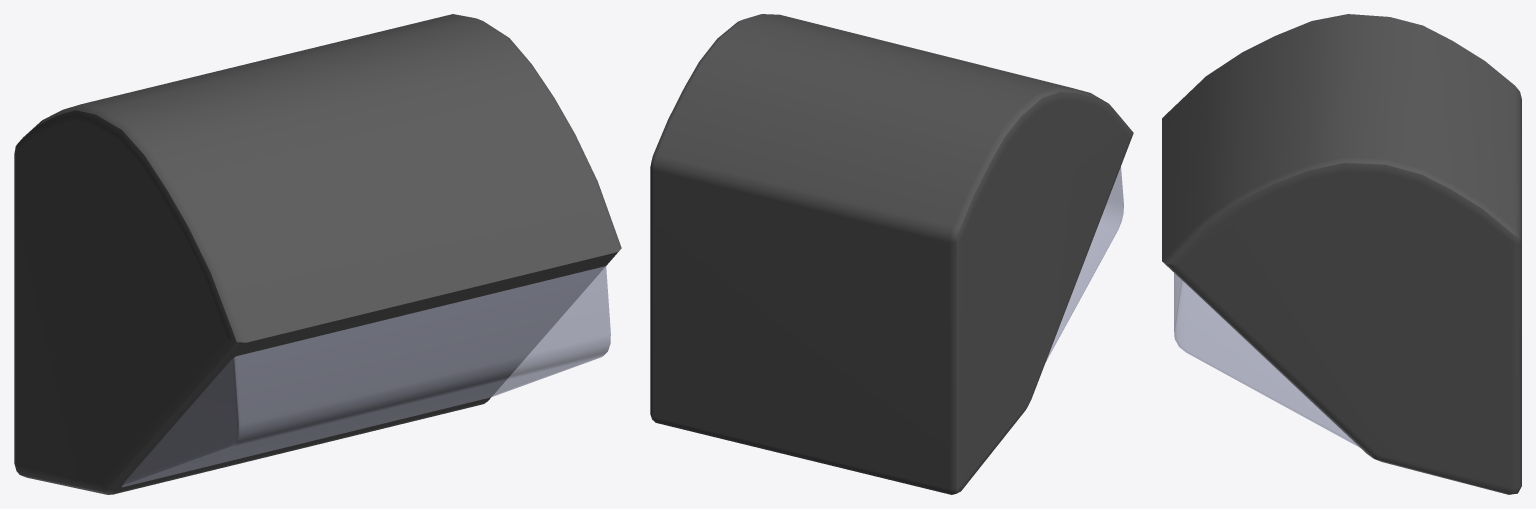
File: External_Light.fbx
The picture shows the model from 3 angles, left to right: view 1: azimuth 30°, elevation 25°; view 2: azimuth 150°, elevation 25°; view 3: azimuth 270°, elevation 25°; orthographic projection. The views are drawn at different scales.
Visible parts, largest first — view 1: pCube831; view 2: pCube831; view 3: pCube831.
Boxes of the visible parts, <box> form: pCube831: <box>14,14,621,494</box>; pCube831: <box>650,14,1133,494</box>; pCube831: <box>1162,14,1521,494</box>.
Size of the model in its own units: 1.67 by 1.75 by 1.69.
